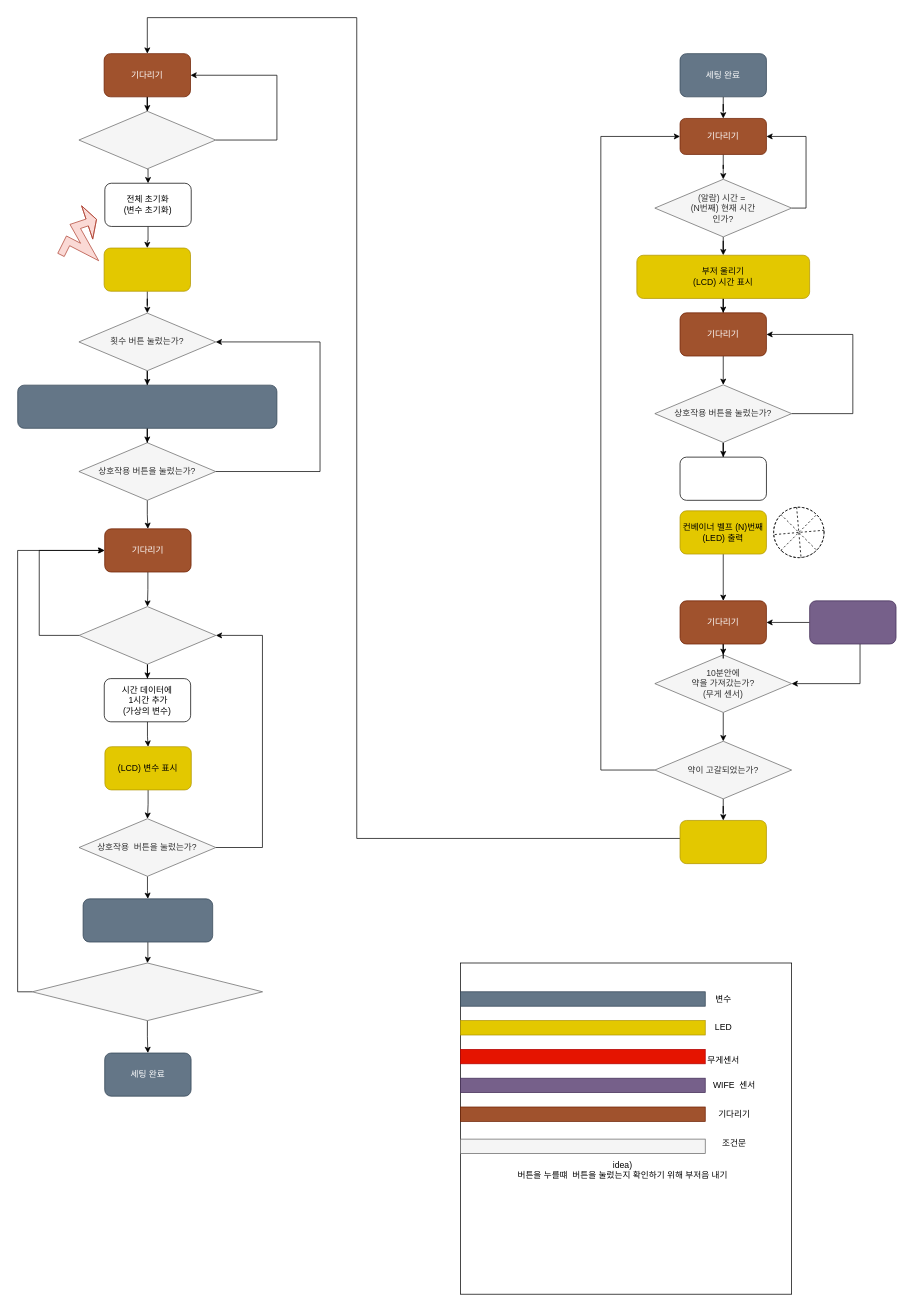
Some shapes in this 909 by 1307 pixel diagram are drawn without their labels. The shapes that lost their labels are listed below. From the top down, each one's box as (x1, y1, x2, y2) in pixels, then its label:
(78, 111, 216, 169): 초기화 버튼을 눌렀는가?
(103, 247, 191, 291): (LED) RESET 출력
(17, 384, 277, 428): 하루에 배출하는 횟수 ++
(679, 456, 766, 500): 약 배출하기
(78, 606, 216, 664): 시간 버튼을 눌렀는가?
(809, 600, 896, 644): 보호자에게 이메일보내기 (기다리기 시간 초기화) (WIFE) 모듈 이용
(679, 820, 766, 864): 약이 고갈되었습니다. (LED) 출력
(82, 898, 213, 942): 시간 데이터 추가 데이터리스트에 (push)
(31, 962, 263, 1021): (받은 데이터의 수 = 횟수)인가?
